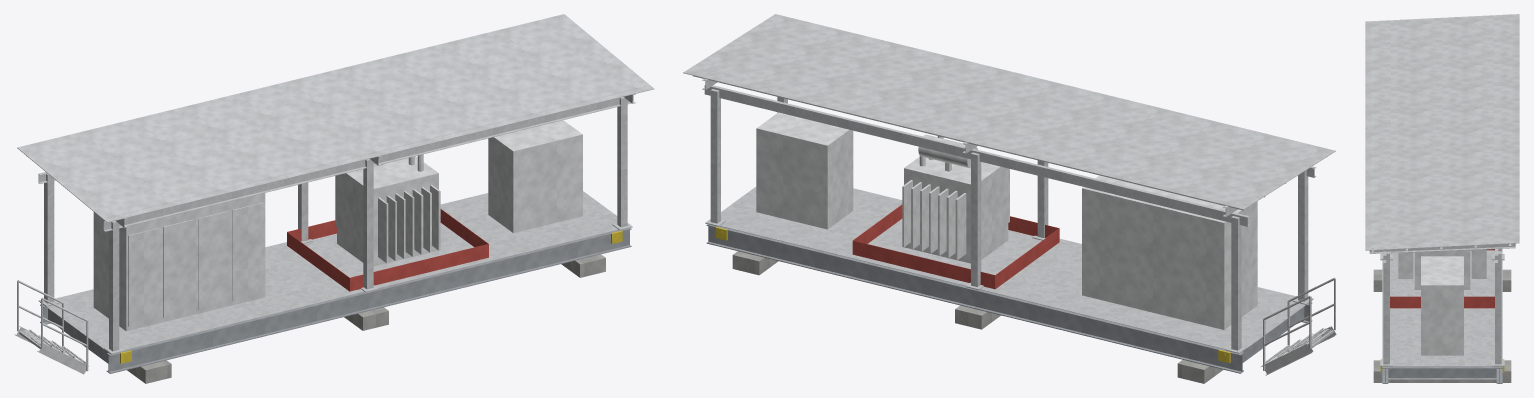
Rendered from inverter-and-transformer-skids.glb.
3 views of the same model, side by side, from view 1: azimuth 30°, elevation 25°; view 2: azimuth 150°, elevation 25°; view 3: azimuth 270°, elevation 25° (orthographic). The views are drawn at different scales.
Visible parts, largest first — view 1: CanopyRoof, Inverter&Transformer(context), ChequeredDeck, SkidBaseFrame, CanopyFrame, OilBund, Plinths(context), AccessSteps; view 2: CanopyRoof, Inverter&Transformer(context), ChequeredDeck, CanopyFrame, SkidBaseFrame, OilBund, AccessSteps, Plinths(context); view 3: CanopyRoof, ChequeredDeck, Inverter&Transformer(context), CanopyFrame, SkidBaseFrame, Plinths(context), OilBund.
Boxes of the visible parts, bbox=[...] form: CanopyRoof: bbox=[17, 14, 654, 222]; Inverter&Transformer(context): bbox=[93, 120, 582, 331]; ChequeredDeck: bbox=[40, 191, 618, 353]; SkidBaseFrame: bbox=[40, 228, 631, 373]; CanopyFrame: bbox=[38, 94, 635, 354]; OilBund: bbox=[287, 209, 488, 291]; Plinths(context): bbox=[127, 254, 605, 383]; AccessSteps: bbox=[14, 280, 88, 374]; CanopyRoof: bbox=[683, 14, 1335, 210]; Inverter&Transformer(context): bbox=[756, 112, 1257, 329]; ChequeredDeck: bbox=[720, 186, 1312, 352]; CanopyFrame: bbox=[702, 78, 1316, 353]; SkidBaseFrame: bbox=[706, 224, 1312, 373]; OilBund: bbox=[852, 204, 1059, 289]; AccessSteps: bbox=[1261, 277, 1336, 375]; Plinths(context): bbox=[732, 251, 1223, 383]; CanopyRoof: bbox=[1365, 14, 1519, 251]; ChequeredDeck: bbox=[1382, 248, 1502, 366]; Inverter&Transformer(context): bbox=[1398, 249, 1486, 355]; CanopyFrame: bbox=[1369, 243, 1515, 366]; SkidBaseFrame: bbox=[1382, 366, 1502, 383]; Plinths(context): bbox=[1373, 269, 1511, 382]; OilBund: bbox=[1390, 249, 1494, 308].
Size of the model in its own units: 13.4 by 4.14 by 3.6.
9 materials, 9 textured.
